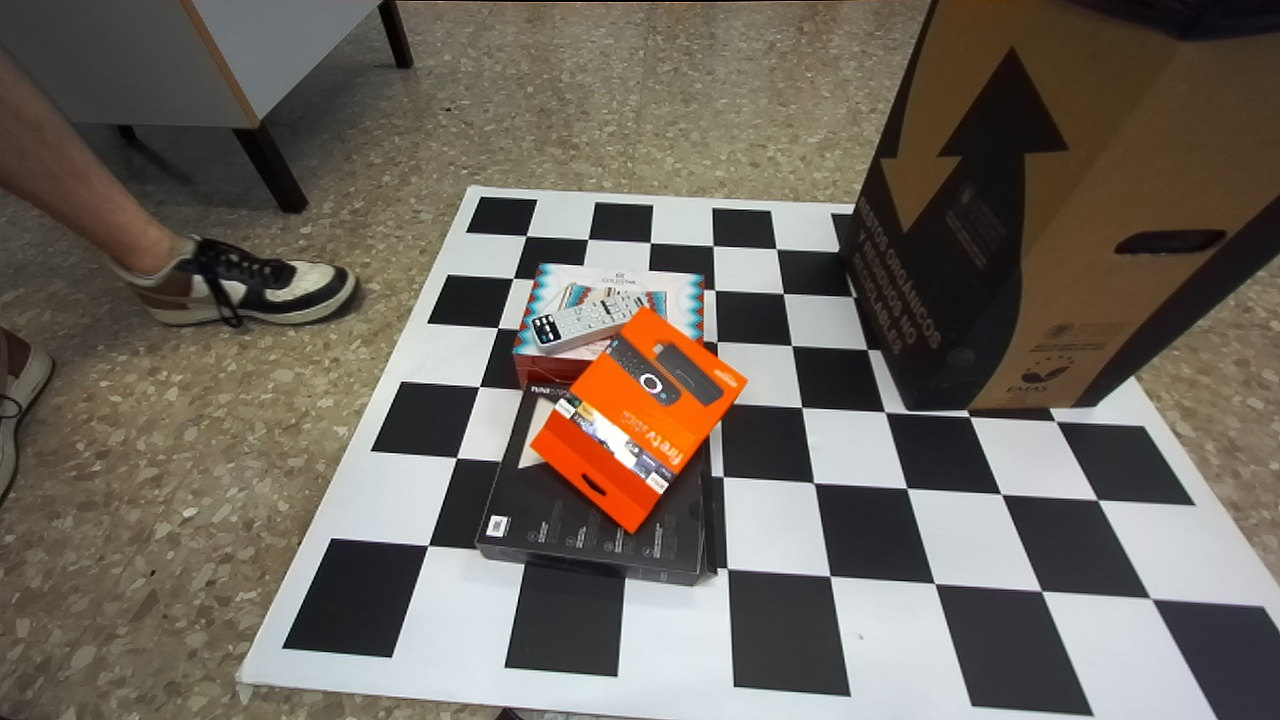caja_busbar: (512, 262, 705, 392)
caja_chasis: (477, 384, 718, 583)
caja_manguera: (532, 308, 746, 532)
